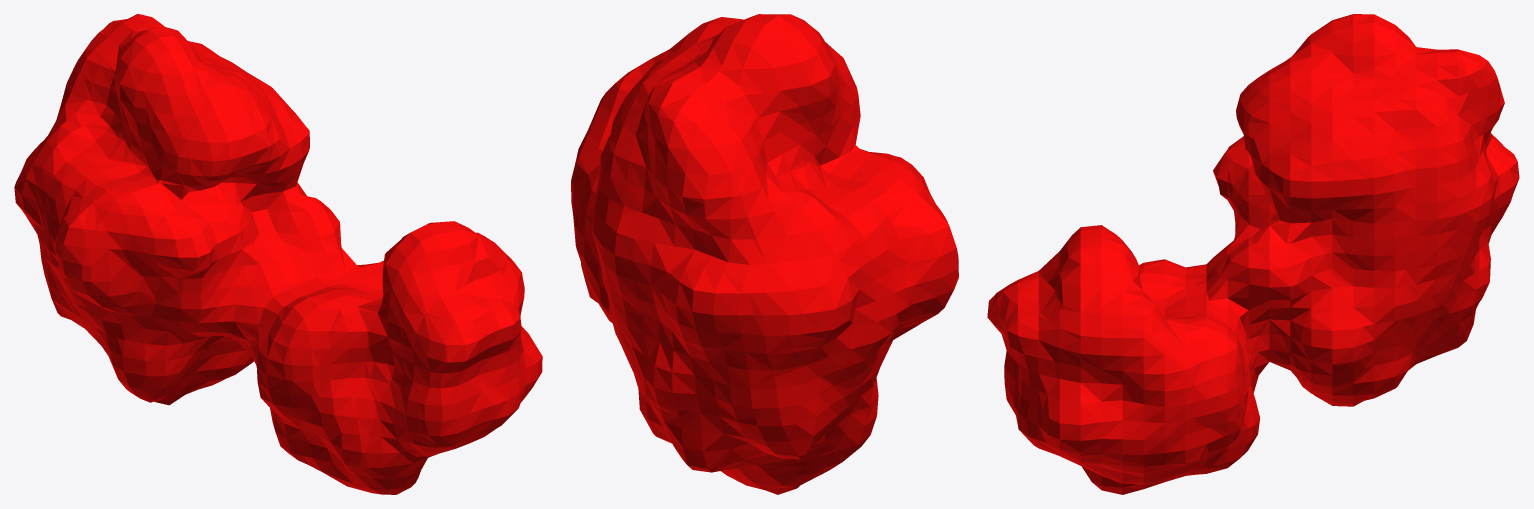
Rendered from ilvA_coarse.dae.
The picture shows the model from 3 angles, left to right: view 1: azimuth 30°, elevation 25°; view 2: azimuth 150°, elevation 25°; view 3: azimuth 270°, elevation 25°; orthographic projection. The views are drawn at different scales.
Parts seen in each view (by area): view 1: ilvA; view 2: ilvA; view 3: ilvA.
Boxes of the visible parts, left/top/right/bottom form: ilvA: left=14, top=14, right=542, bottom=494; ilvA: left=571, top=14, right=958, bottom=494; ilvA: left=987, top=14, right=1519, bottom=494.
Size of the model in its own units: 68.99 by 73.23 by 84.43.
